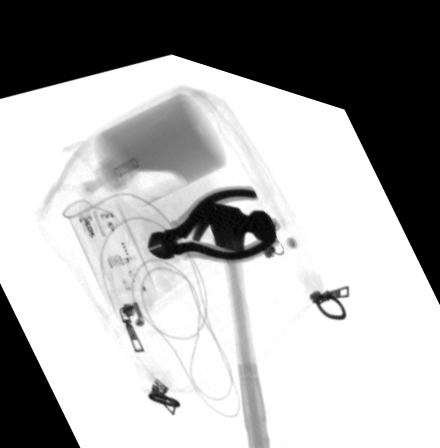Hammer: (193, 189, 278, 448)
Pliers: (146, 169, 280, 249)
